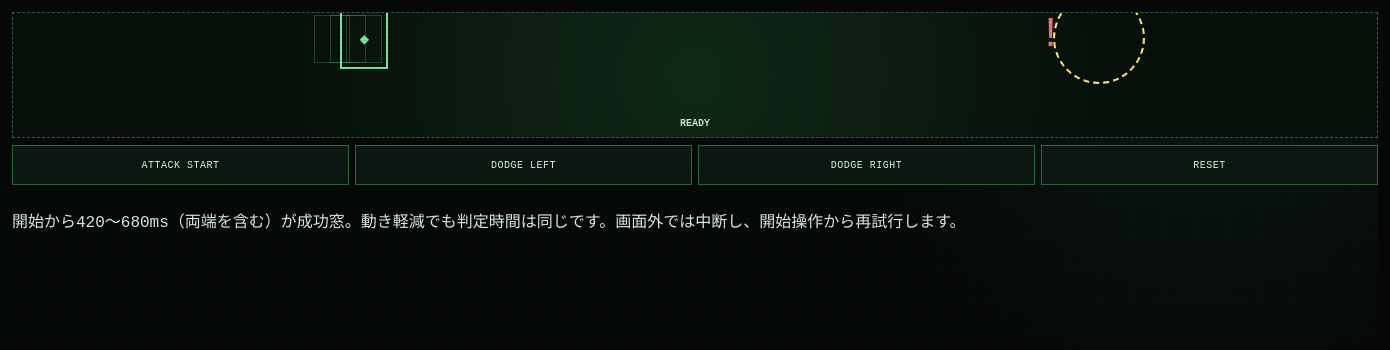
dodge ceases active label after success window
Click the button "ATTACK START": click(180, 165) [12, 145, 349, 185]
Wait 681 ms
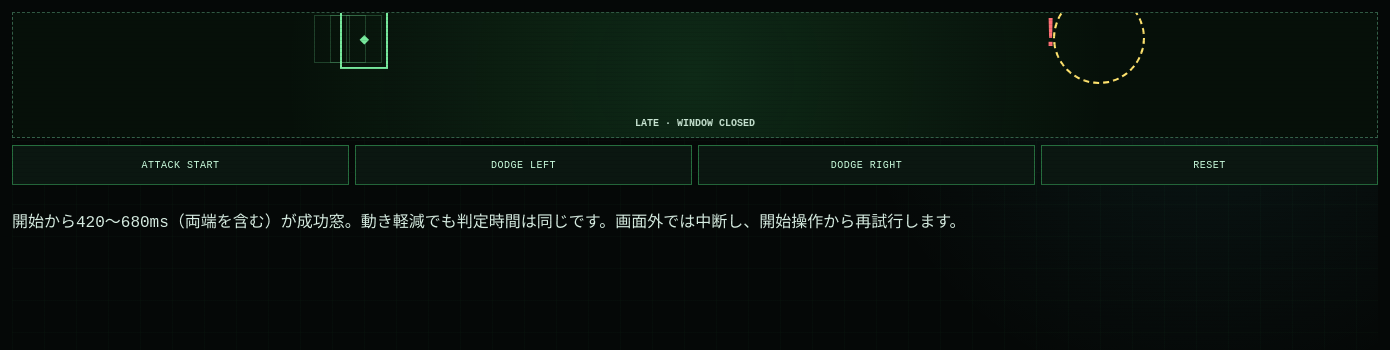
expect the text "LATE · WINDOW CLOSED" is shown: met, box [635, 118, 755, 129]
